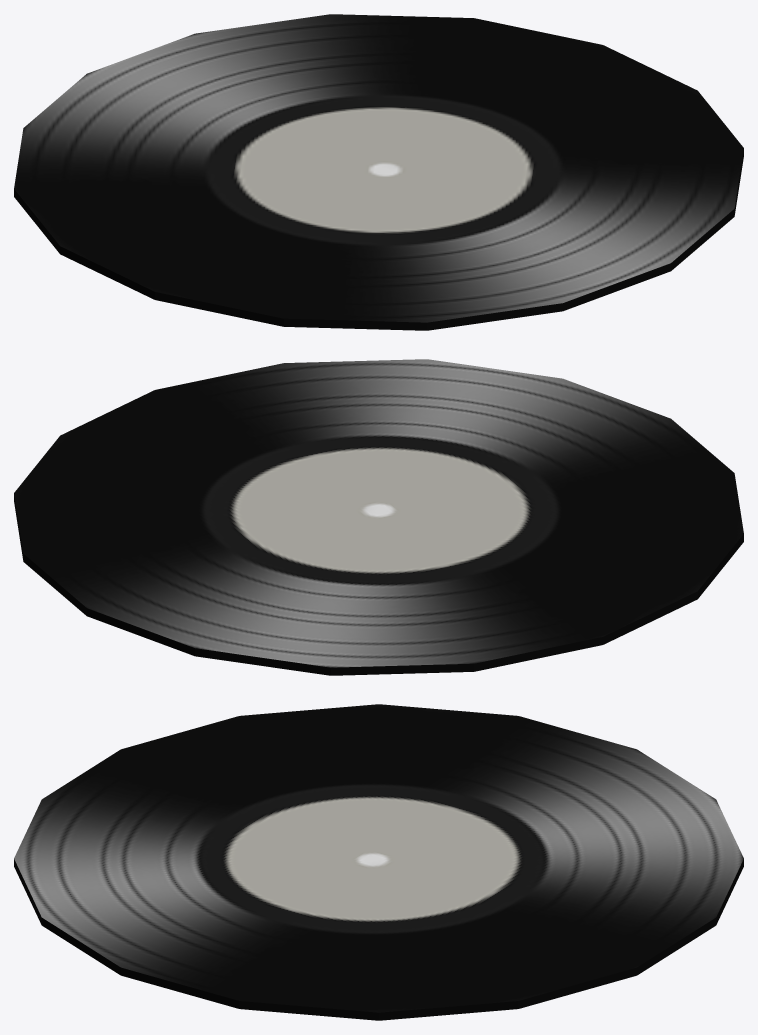
File: Vinyl Disc.fbx
3 renders of one model, top to bottom at view 1: azimuth 30°, elevation 25°; view 2: azimuth 150°, elevation 25°; view 3: azimuth 270°, elevation 25°, orthographic.
Parts seen in each view (by area): view 1: Cylinder.006; view 2: Cylinder.006; view 3: Cylinder.006.
Boxes of the visible parts, bbox=[...] form: Cylinder.006: bbox=[14, 14, 743, 330]; Cylinder.006: bbox=[14, 359, 743, 675]; Cylinder.006: bbox=[14, 704, 743, 1020].
Size of the model in its own units: 25 by 0.3059 by 25.
